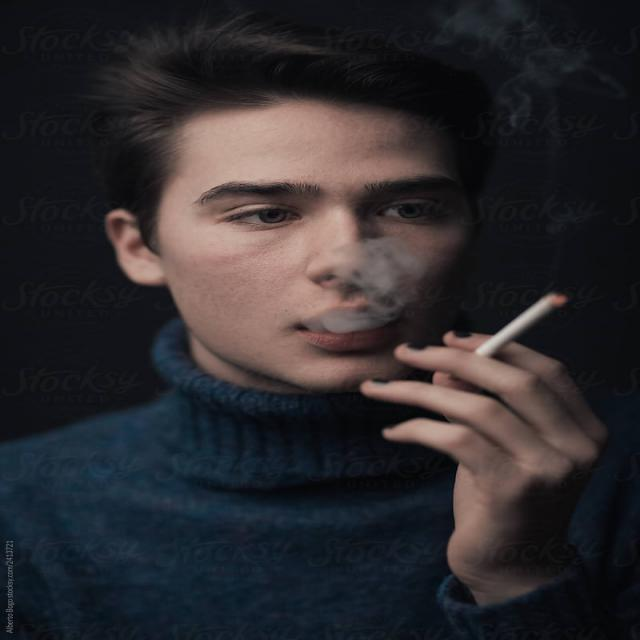smoking: (455, 286, 568, 364)
